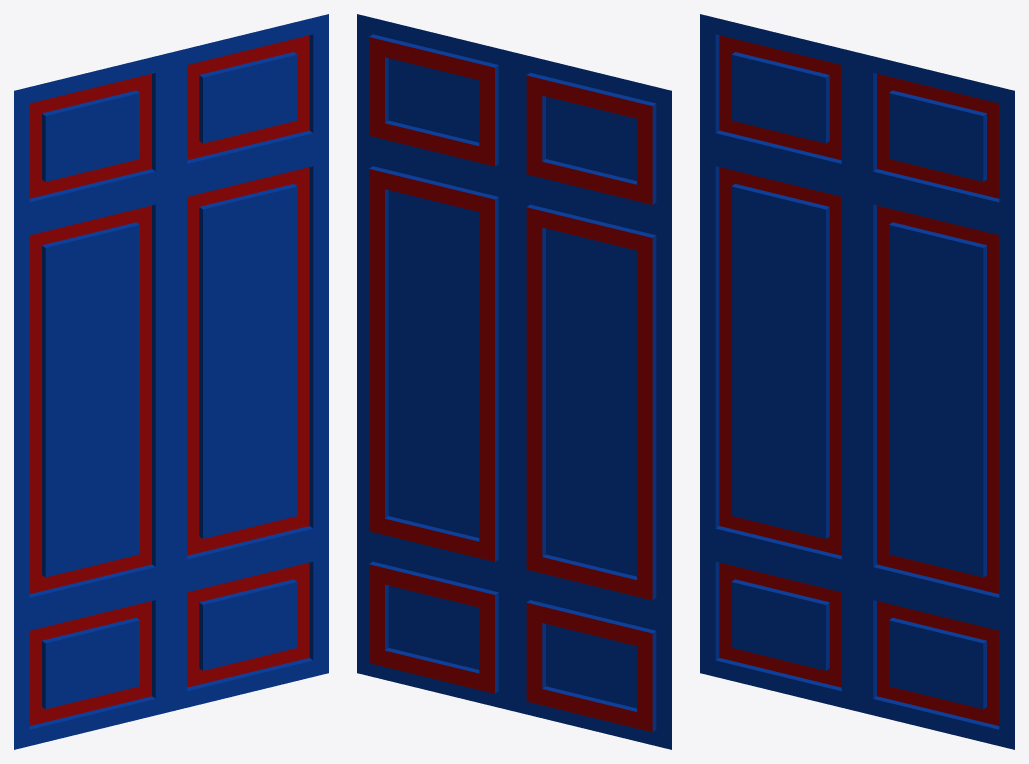
Rendered from WindowsSmall01.fbx.
The picture shows the model from 3 angles, left to right: view 1: azimuth 30°, elevation 25°; view 2: azimuth 150°, elevation 25°; view 3: azimuth 330°, elevation 25°; orthographic projection.
Visible parts, largest first — view 1: WindowsSmall01; view 2: WindowsSmall01; view 3: WindowsSmall01.
Part boxes in pixels (x1,y1,x2,y2): WindowsSmall01: (14, 14, 328, 749); WindowsSmall01: (357, 14, 671, 749); WindowsSmall01: (700, 14, 1014, 749).
Bounding box in the file's own units: 100 × 200 × 2.
